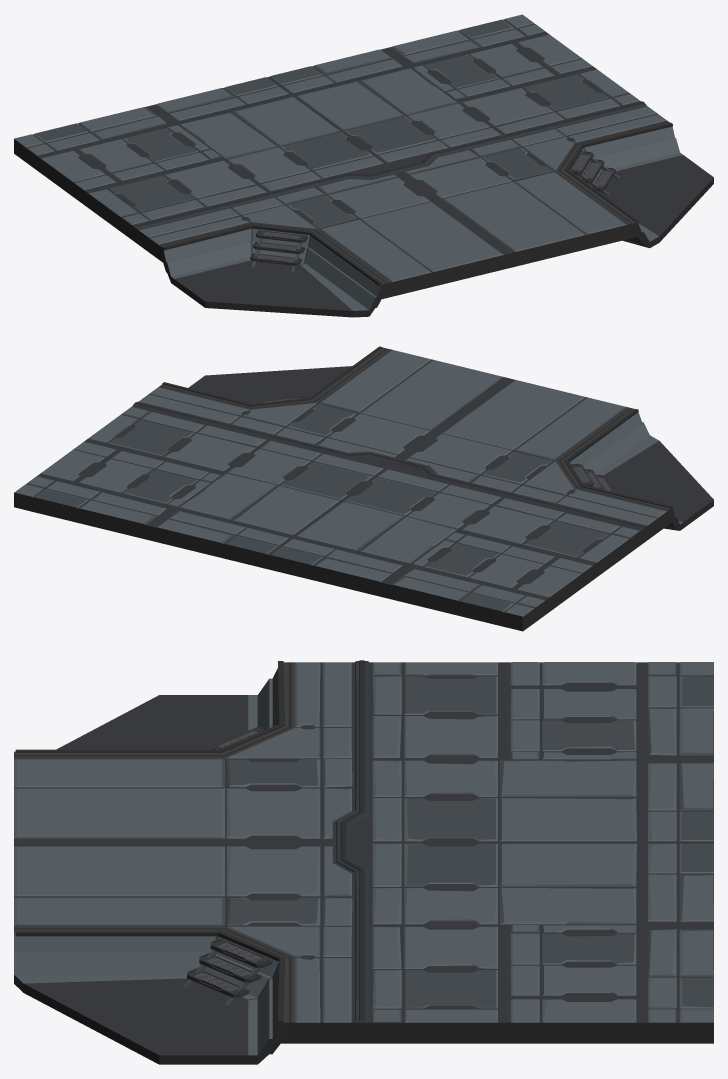
Rendered from SM_Bld_Bridge_Floor_01.fbx.
3 renders of one model, top to bottom at view 1: azimuth 30°, elevation 25°; view 2: azimuth 150°, elevation 25°; view 3: azimuth 270°, elevation 25°, orthographic. The views are drawn at different scales.
Visible parts, largest first — view 1: SM_Bld_Bridge_Floor_01; view 2: SM_Bld_Bridge_Floor_01; view 3: SM_Bld_Bridge_Floor_01.
Boxes of the visible parts, bbox=[...] form: SM_Bld_Bridge_Floor_01: bbox=[14, 14, 713, 317]; SM_Bld_Bridge_Floor_01: bbox=[14, 346, 713, 631]; SM_Bld_Bridge_Floor_01: bbox=[14, 660, 713, 1064].
Size of the model in its own units: 1770 by 101 by 1453.
Materials: 1 (1 with a texture image).
